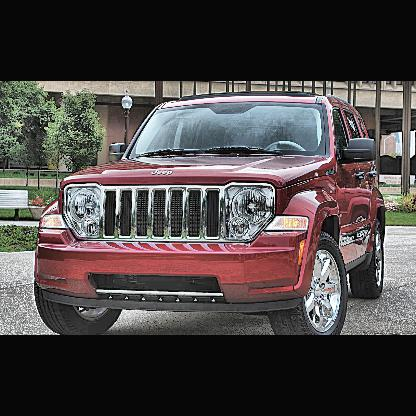Jeep Liberty SUV 2012: (34, 90, 388, 334)
